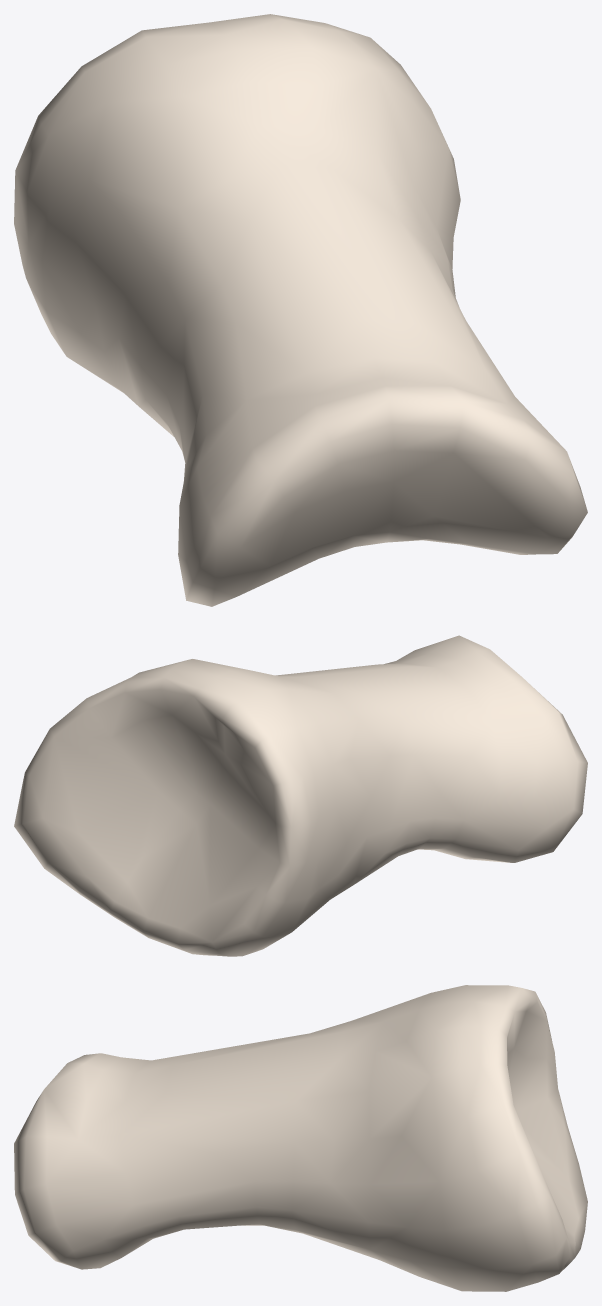
The model's file is right_toe_1_proximal.glb.
3 views of the same model, one above another, from view 1: azimuth 30°, elevation 25°; view 2: azimuth 150°, elevation 25°; view 3: azimuth 270°, elevation 25° (orthographic). The views are drawn at different scales.
Parts seen in each view (by area): view 1: Proximal phalanx of first finger of foot.r; view 2: Proximal phalanx of first finger of foot.r; view 3: Proximal phalanx of first finger of foot.r.
Part boxes in pixels (<box>): Proximal phalanx of first finger of foot.r: <box>14,14,587,606</box>; Proximal phalanx of first finger of foot.r: <box>14,635,587,956</box>; Proximal phalanx of first finger of foot.r: <box>14,985,587,1291</box>.
Size of the model in its own units: 0.0254 by 0.0172 by 0.0334.
